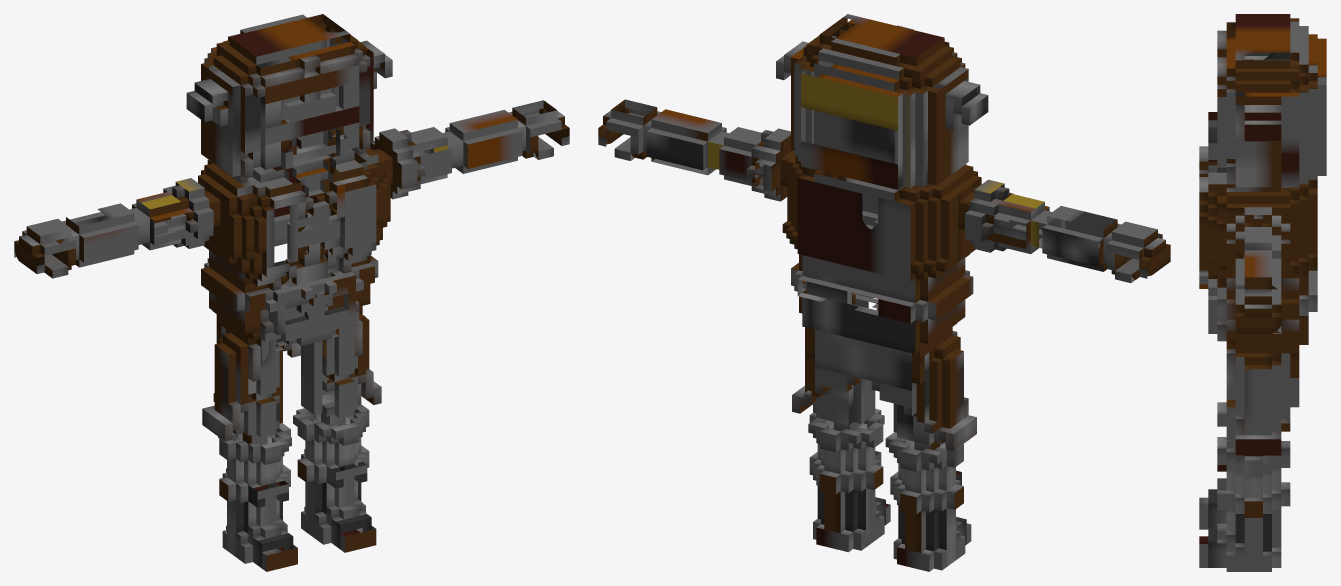
Rendered from Content.obj.
The picture shows the model from 3 angles, left to right: view 1: azimuth 30°, elevation 25°; view 2: azimuth 150°, elevation 25°; view 3: azimuth 270°, elevation 25°; orthographic projection. The views are drawn at different scales.
Parts seen in each view (by area): view 1: Model; view 2: Model; view 3: Model.
Boxes of the visible parts, <box> form: Model: <box>14,14,569,571</box>; Model: <box>598,14,1170,571</box>; Model: <box>1199,14,1326,571</box>.
Bounding box in the file's own units: 32 × 28.71 × 6.59.
